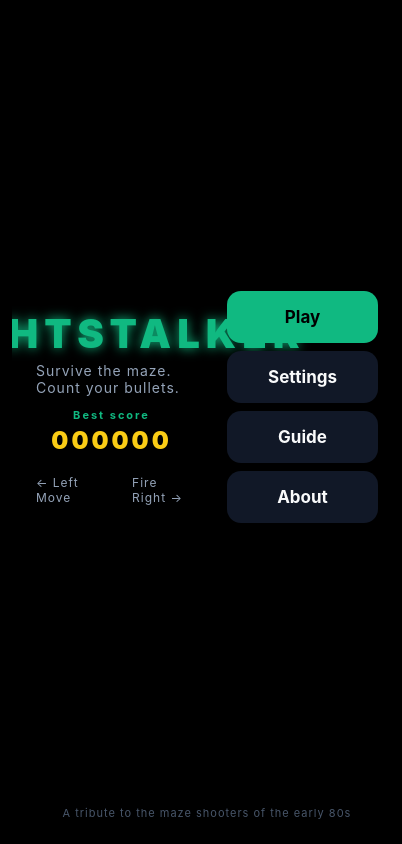
Test: App › goes back to the phone language with the automatic choice
Click the button "Settings": (302, 377) 227,351 -> 378,403
(page scrolled)
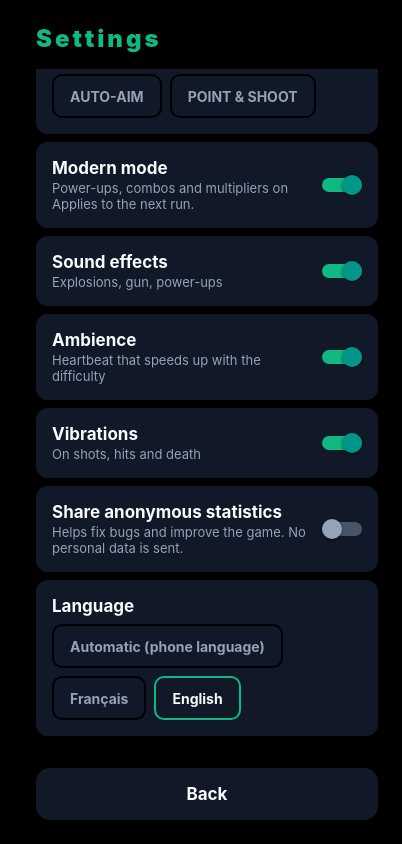
Click the radio button with test id "settings-language-auto": (167, 646) 52,624 -> 283,668
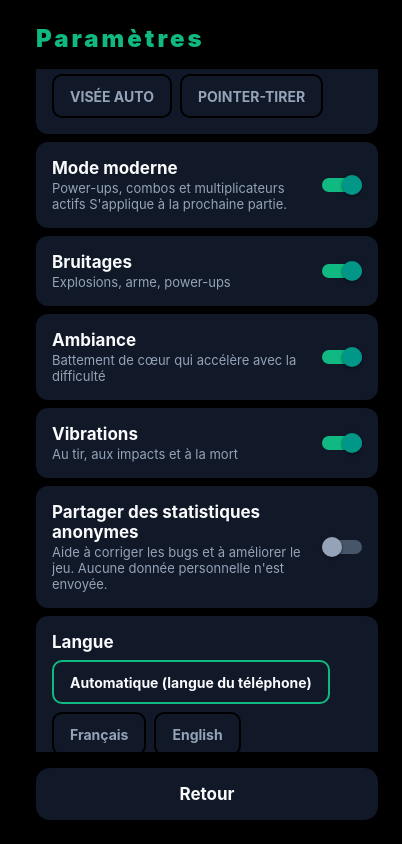
Expected: the heading "Paramètres" is shown, 36,24 -> 205,53
